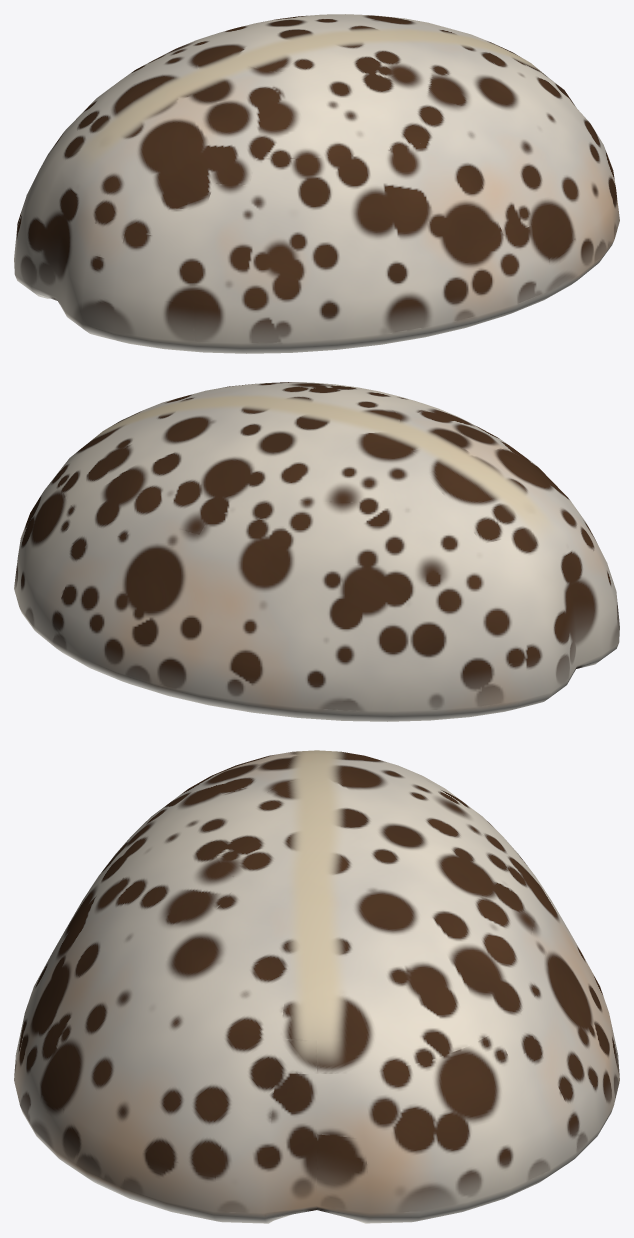
The model's file is Shell_Cowrie.gltf.
The picture shows the model from 3 angles, top to bottom: view 1: azimuth 30°, elevation 25°; view 2: azimuth 150°, elevation 25°; view 3: azimuth 270°, elevation 25°; orthographic projection. The views are drawn at different scales.
Visible parts, largest first — view 1: Shell_Cowrie; view 2: Shell_Cowrie; view 3: Shell_Cowrie.
Boxes of the visible parts, left/top/right/bottom form: Shell_Cowrie: left=14, top=14, right=619, bottom=353; Shell_Cowrie: left=14, top=382, right=619, bottom=721; Shell_Cowrie: left=14, top=750, right=619, bottom=1223.
Bounding box in the file's own units: 0.0572 × 0.0249 × 0.0465.
Materials: 1 (1 with a texture image).
